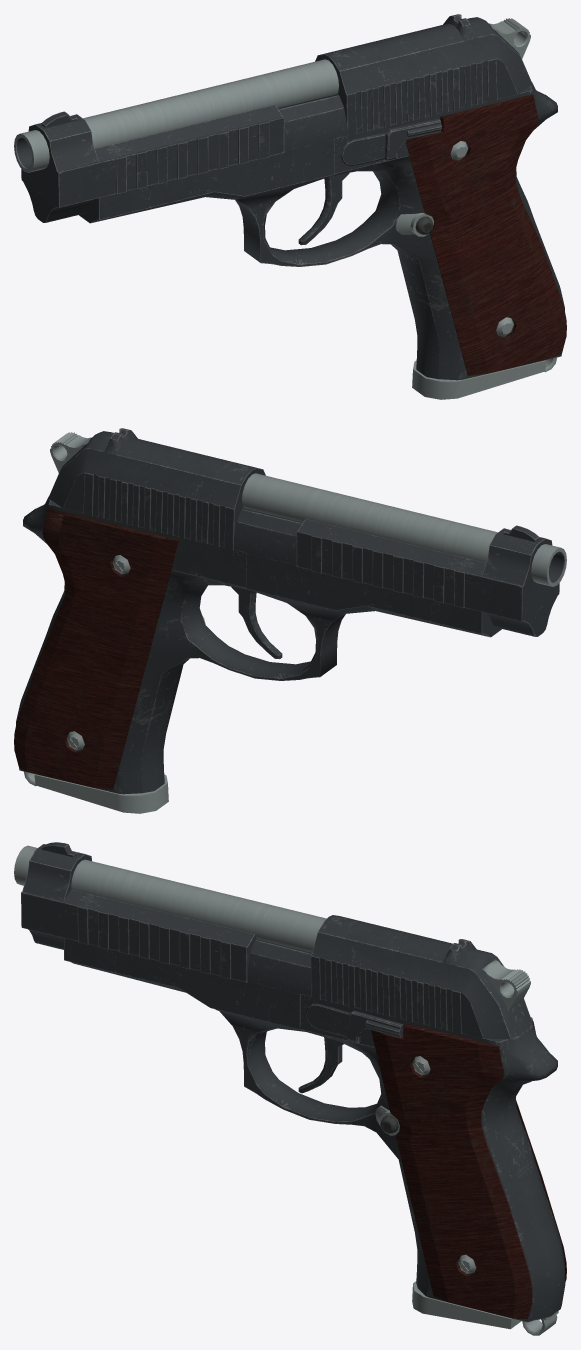
The model's file is Pistol.fbx.
3 renders of one model, top to bottom at view 1: azimuth 30°, elevation 25°; view 2: azimuth 150°, elevation 25°; view 3: azimuth 330°, elevation 25°, orthographic.
Visible parts, largest first — view 1: Pistol; view 2: Pistol; view 3: Pistol.
Boxes of the visible parts, x1=… form: Pistol: x1=14, y1=14, x2=566, y2=399; Pistol: x1=14, y1=428, x2=566, y2=813; Pistol: x1=14, y1=842, x2=566, y2=1335.
Bounding box in the file's own units: 460 × 304 × 63.4.
1 material, 1 textured.
